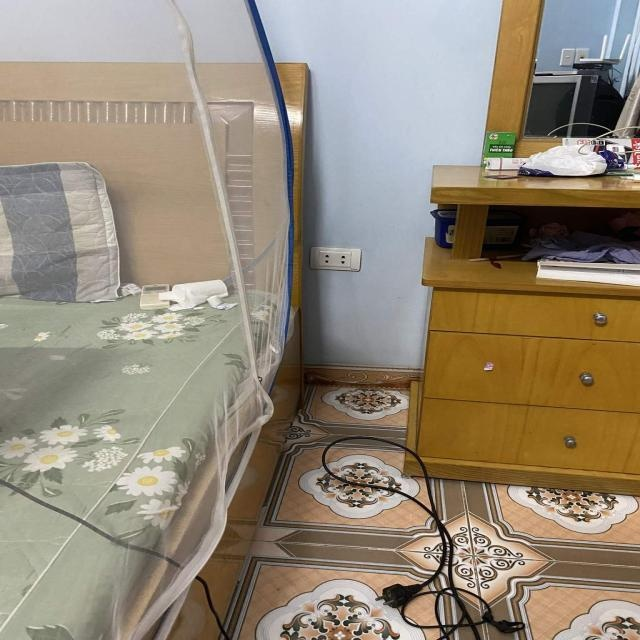outlet: (310, 246, 362, 271)
